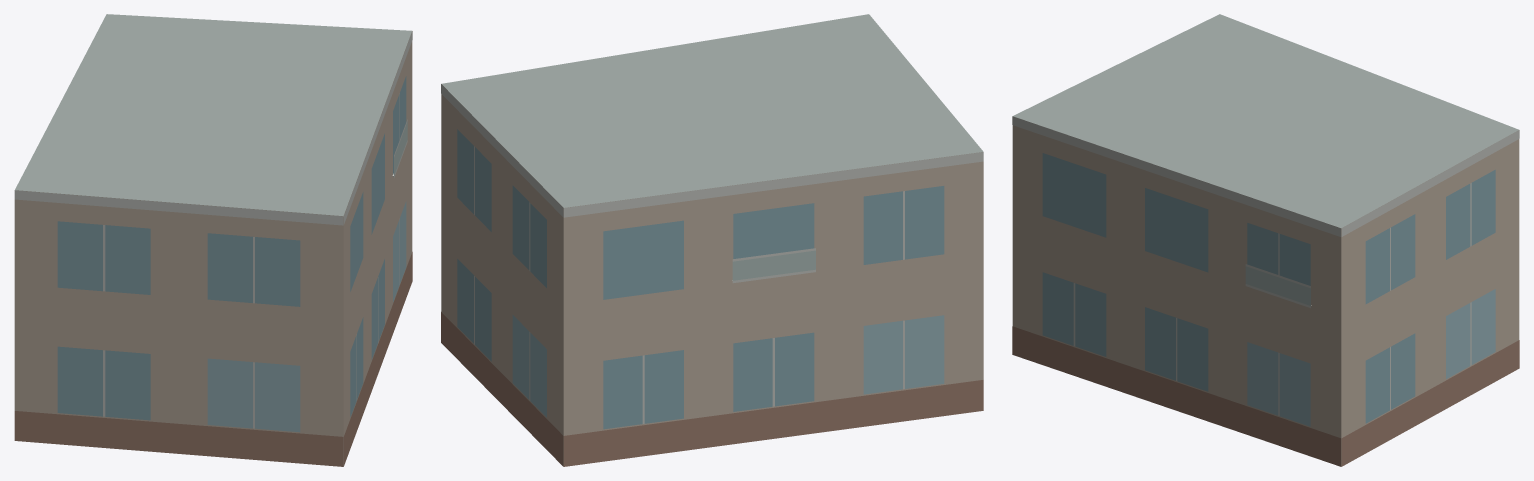
The model's file is survey-upis-32670177.glb.
The picture shows the model from 3 angles, left to right: view 1: azimuth 30°, elevation 25°; view 2: azimuth 150°, elevation 25°; view 3: azimuth 270°, elevation 25°; orthographic projection. The views are drawn at different scales.
Parts seen in each view (by area): view 1: survey-upis-32670177.tmp; view 2: survey-upis-32670177.tmp; view 3: survey-upis-32670177.tmp.
Part boxes in pixels (x1,y1,x2,y2): survey-upis-32670177.tmp: [14, 14, 412, 466]; survey-upis-32670177.tmp: [441, 14, 983, 466]; survey-upis-32670177.tmp: [1012, 14, 1519, 466].
Size of the model in its own units: 12.53 by 6.5 by 12.53.
